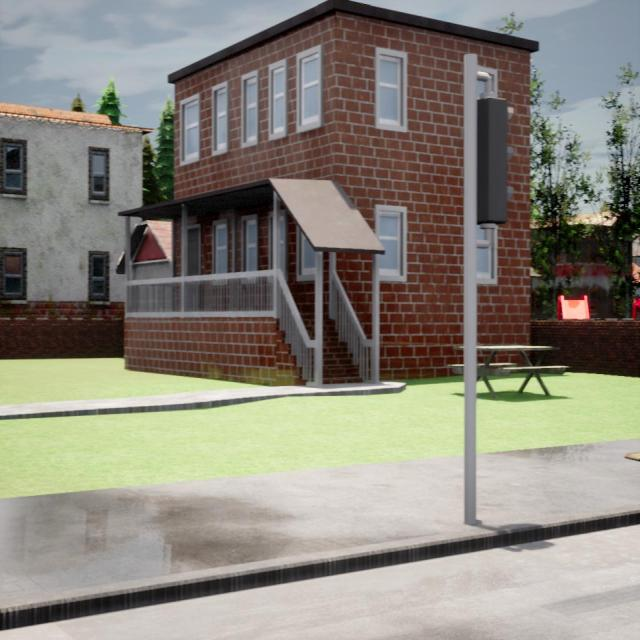traffic_light: (477, 96, 516, 227)
